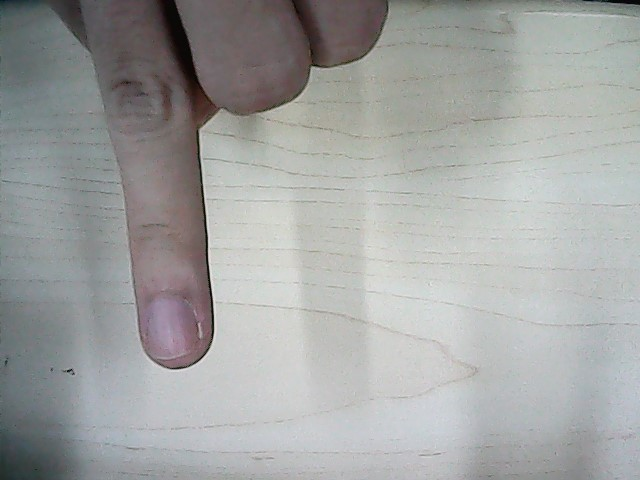nail: (144, 299, 199, 361)
